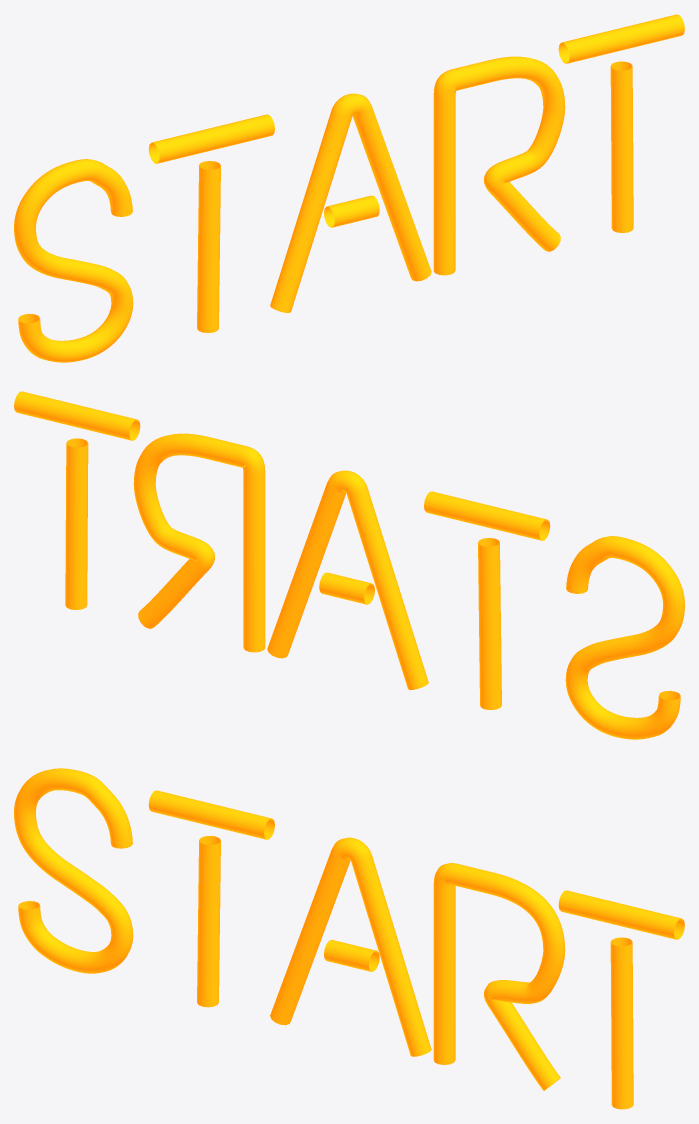
Rendered from start.glb.
3 renders of one model, top to bottom at view 1: azimuth 30°, elevation 25°; view 2: azimuth 150°, elevation 25°; view 3: azimuth 330°, elevation 25°, orthographic.
Visible parts, largest first — view 1: Start; view 2: Start; view 3: Start.
Boxes of the visible parts, <box> form: Start: <box>14,14,684,362</box>; Start: <box>14,391,684,739</box>; Start: <box>14,768,684,1109</box>.
Size of the model in its own units: 2.09 by 0.6139 by 0.06.
